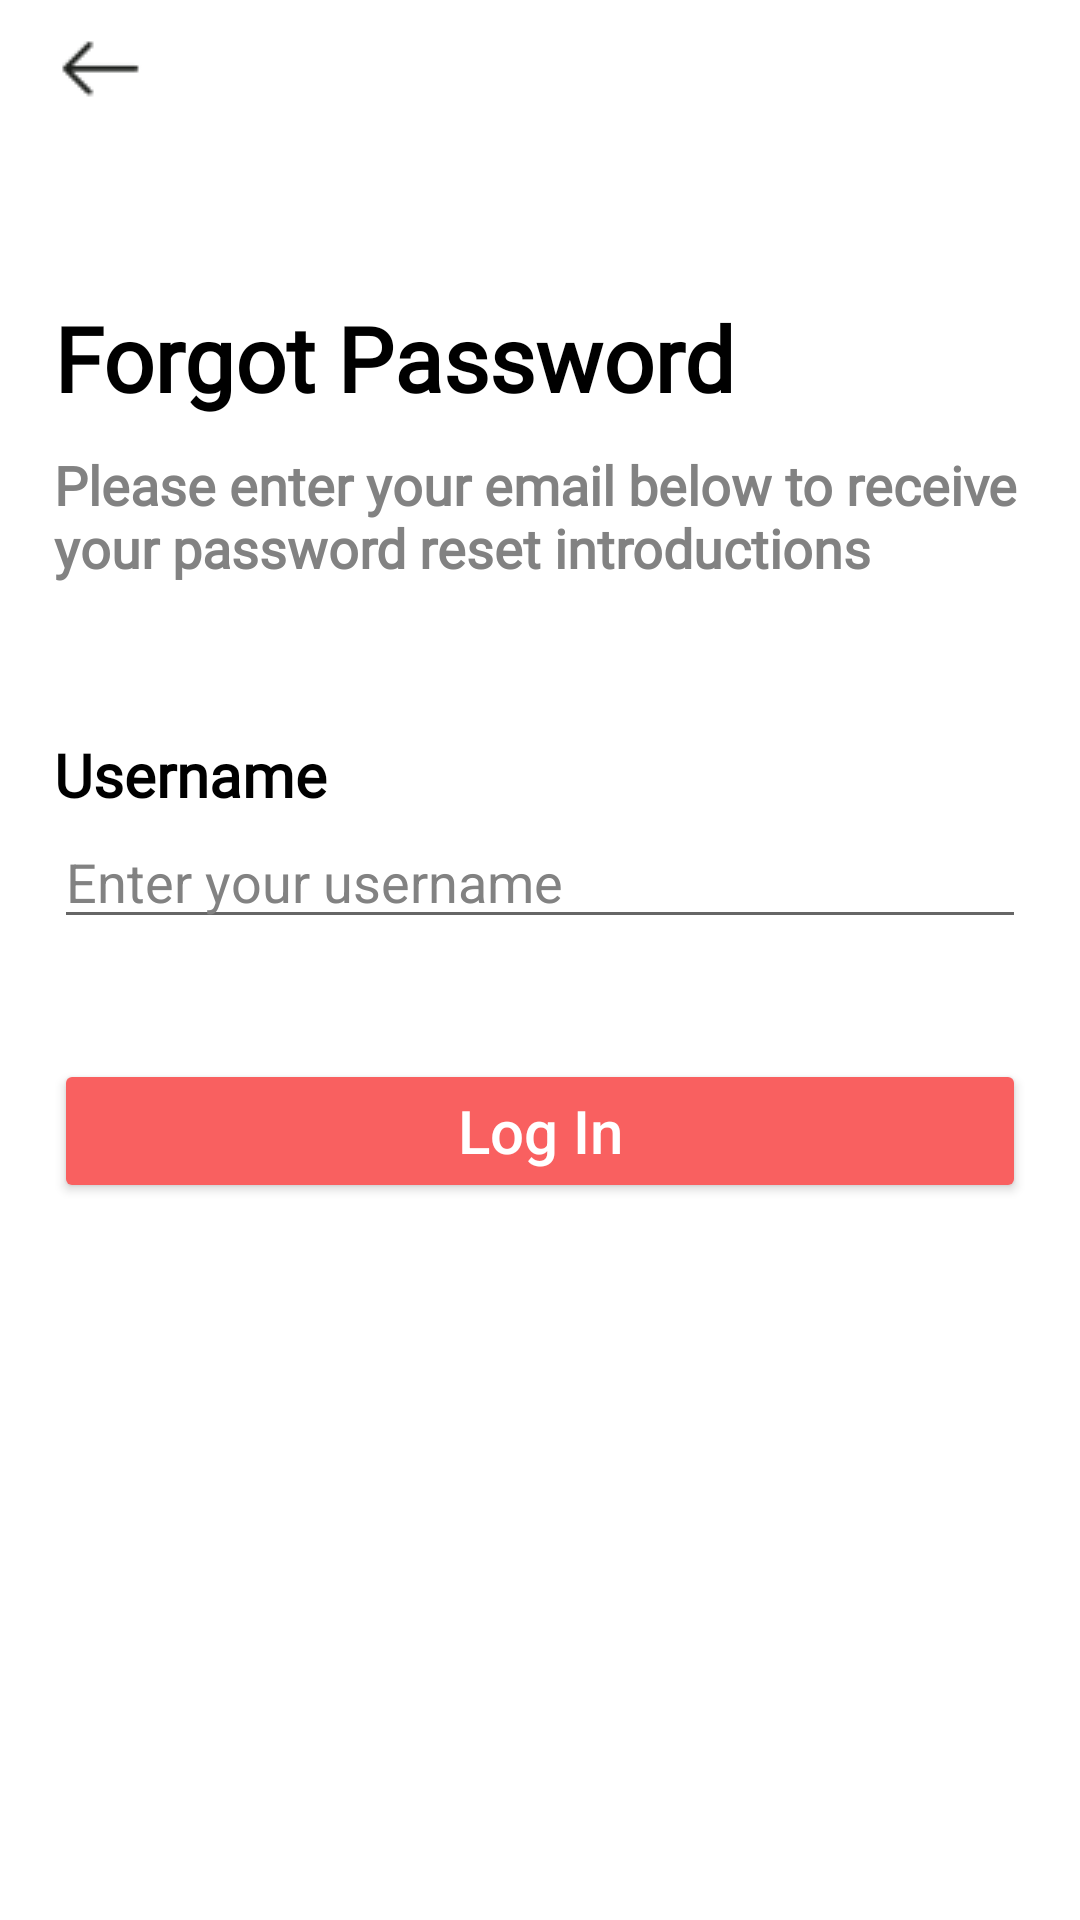

Screen size 1080 x 1920. Icon name, then its center in pixels as (x=x, y=y):
back: (x=100, y=69)
